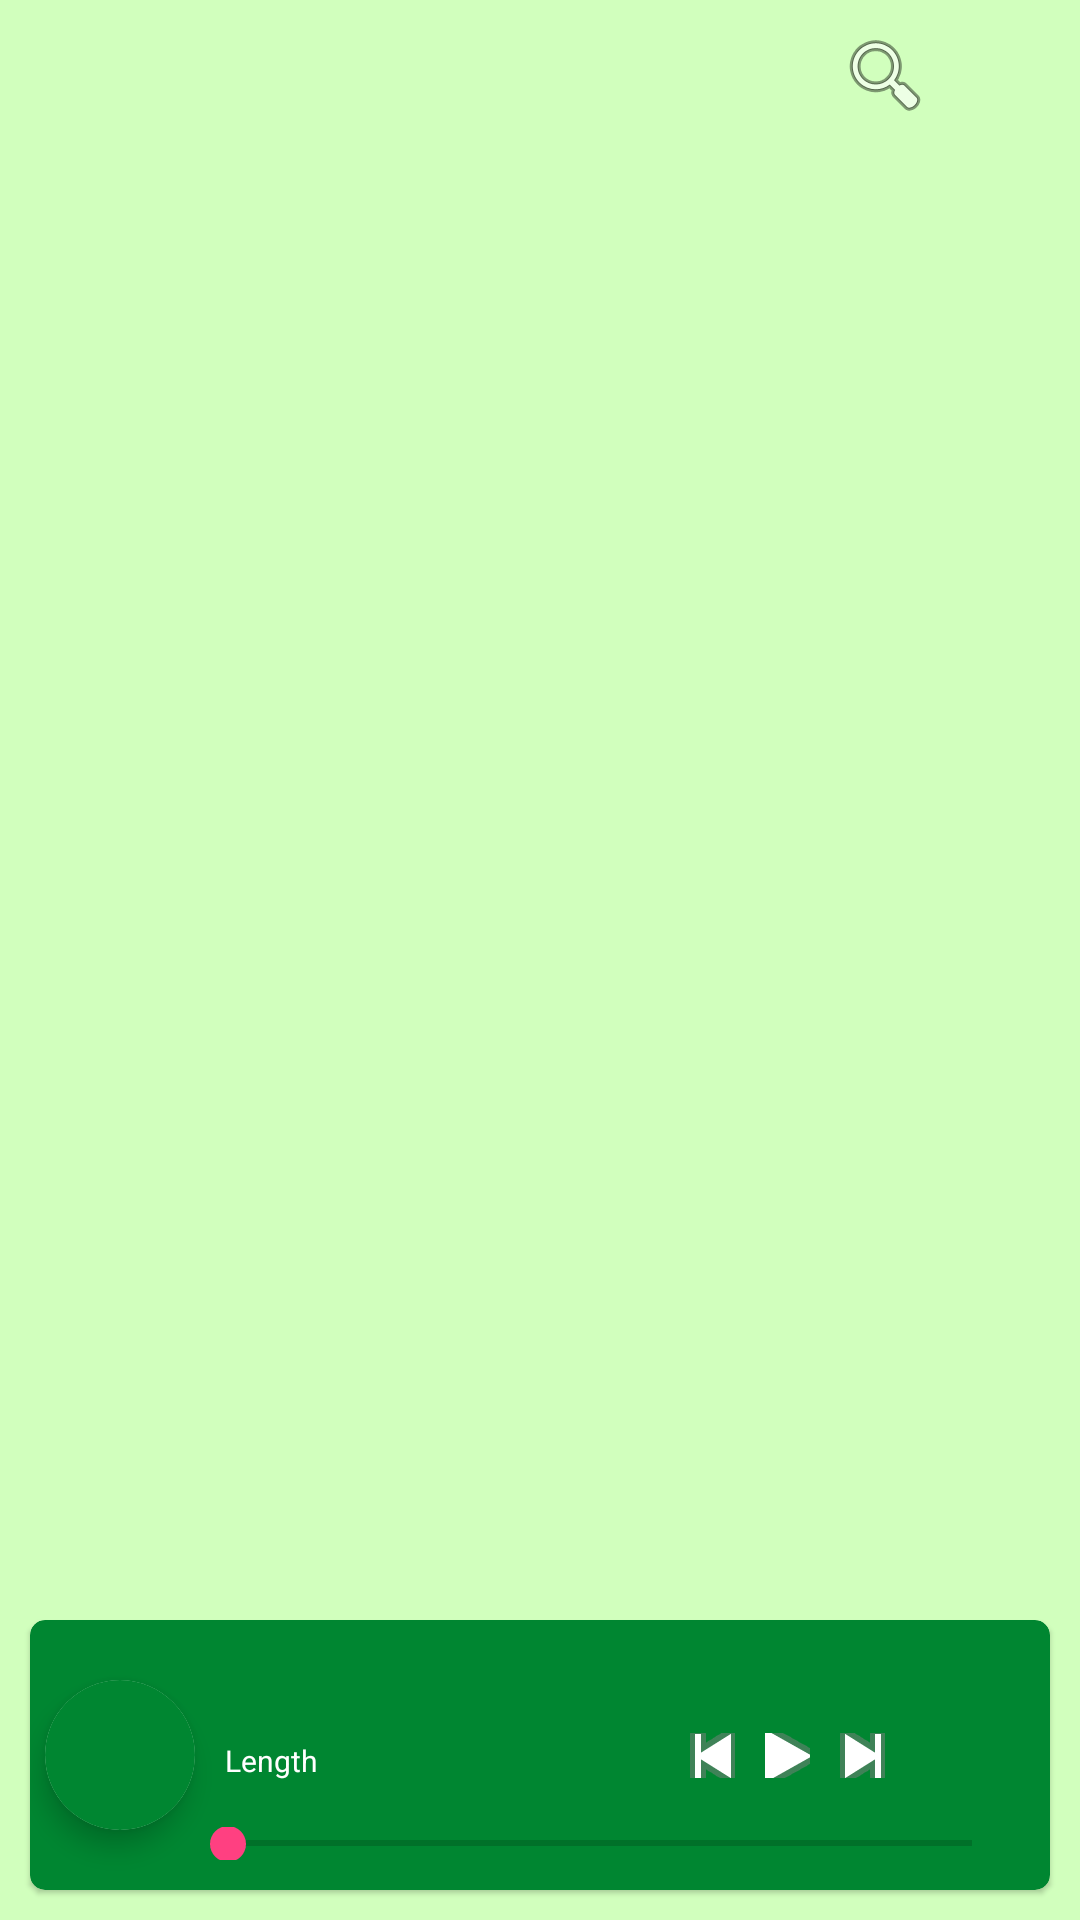

Locate icon controls on the screen. Image size 1080px x 1920px, boxes as (x1, y1, x2, y2).
next: (840, 1733, 885, 1778)
play: (765, 1733, 810, 1778)
previous: (690, 1733, 735, 1778)
search: (849, 40, 921, 111)
